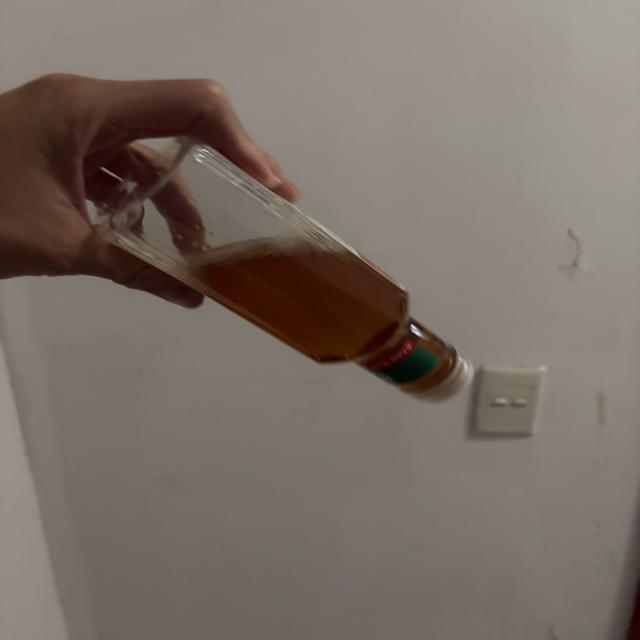medium: (96, 138, 471, 399)
